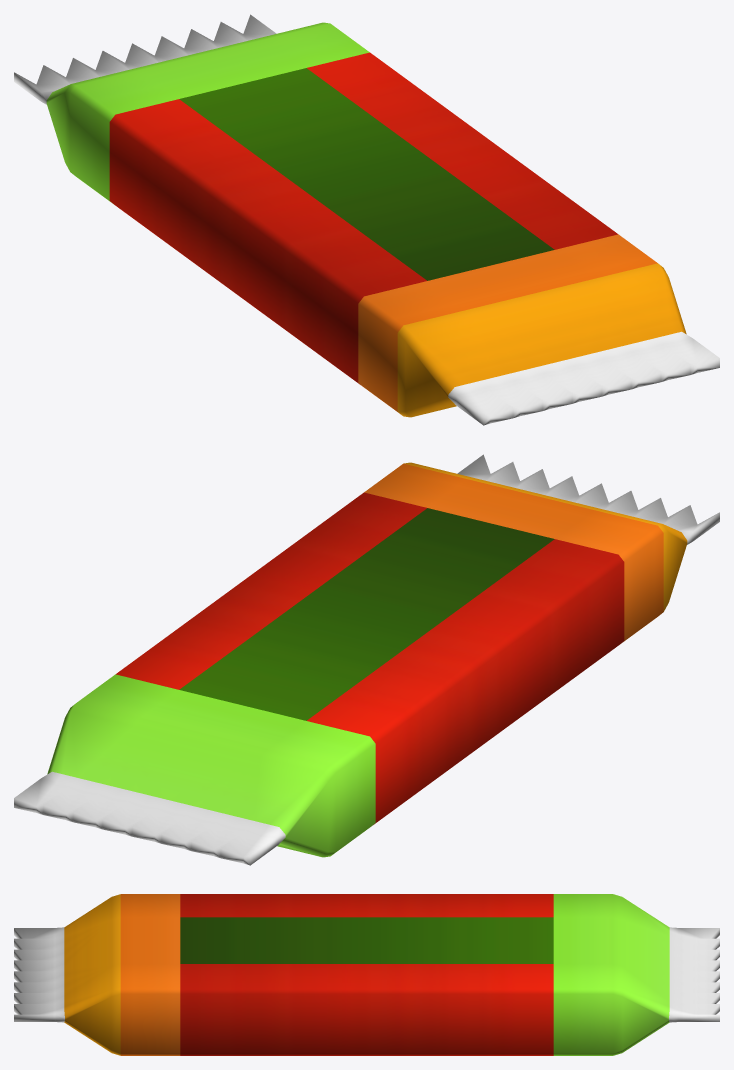
Rendered from SN_Chocolate_bar_1.fbx.
3 renders of one model, top to bottom at view 1: azimuth 30°, elevation 25°; view 2: azimuth 150°, elevation 25°; view 3: azimuth 270°, elevation 25°, orthographic. The views are drawn at different scales.
Visible parts, largest first — view 1: SN_Chocolate_bar_1; view 2: SN_Chocolate_bar_1; view 3: SN_Chocolate_bar_1.
Boxes of the visible parts, x1=… form: SN_Chocolate_bar_1: x1=14, y1=14, x2=719, y2=425; SN_Chocolate_bar_1: x1=14, y1=454, x2=719, y2=865; SN_Chocolate_bar_1: x1=14, y1=894, x2=719, y2=1055.
Bounding box in the file's own units: 5.37 × 1.76 × 16.43.
1 material, 1 textured.
